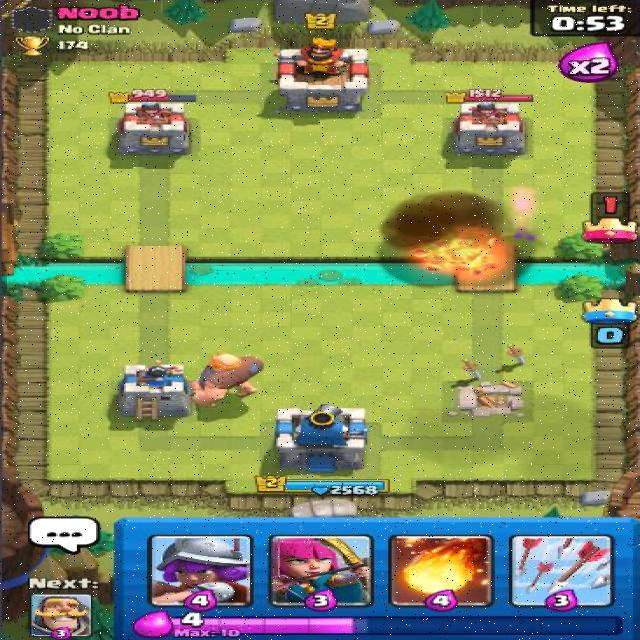Player-Giant: (189, 351, 269, 407)
